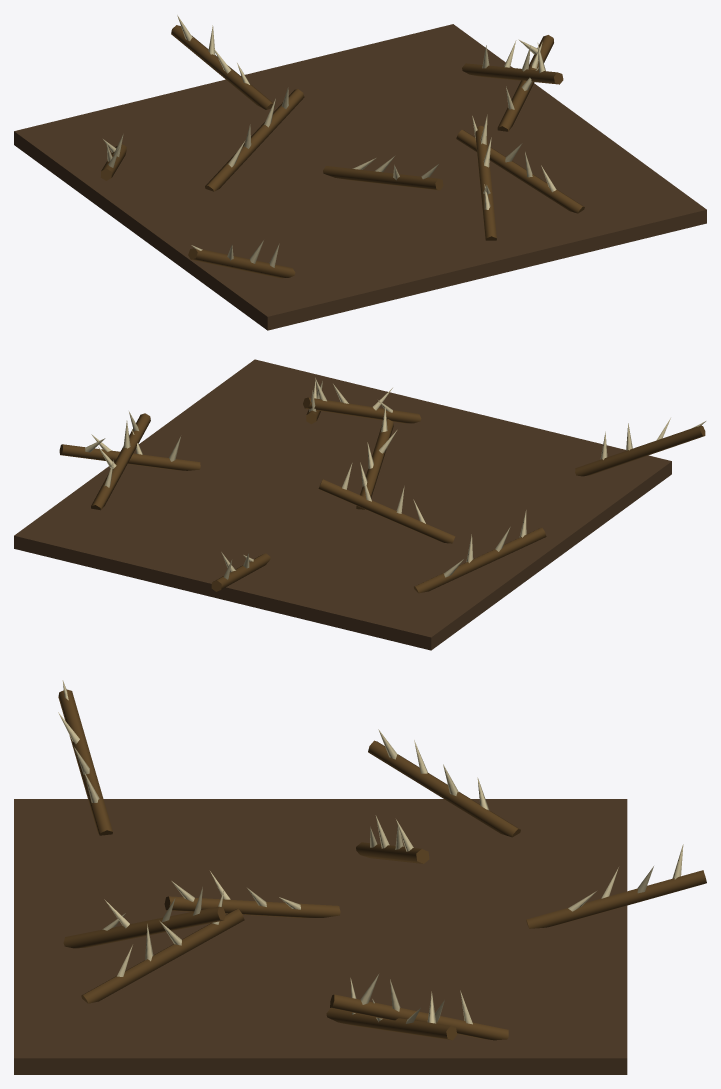
File: thorns.glb
3 views of the same model, one above another, from view 1: azimuth 30°, elevation 25°; view 2: azimuth 150°, elevation 25°; view 3: azimuth 270°, elevation 25° (orthographic). The views are drawn at different scales.
Parts seen in each view (by area): view 1: Bed, Branch3, Branch8, Branch1, Branch4, Branch6, Branch2, Branch7, Branch5; view 2: Bed, Branch3, Branch6, Branch0, Branch5, Branch7, Branch2, Branch4, Branch1; view 3: Bed, Branch1, Branch8, Branch7, Branch0, Branch2, Branch4, Branch6, Branch5, Branch3.
Part boxes in pixels (x1,y1,x2,y2): Bed: [14, 24, 706, 330]; Branch3: [205, 89, 304, 191]; Branch8: [456, 130, 584, 213]; Branch1: [171, 25, 275, 109]; Branch4: [323, 166, 443, 190]; Branch6: [188, 248, 295, 278]; Branch2: [462, 63, 563, 84]; Branch7: [475, 125, 496, 240]; Branch5: [497, 35, 553, 131]; Bed: [14, 359, 671, 650]; Branch3: [318, 479, 455, 543]; Branch6: [575, 425, 705, 476]; Branch0: [414, 527, 546, 593]; Branch5: [59, 444, 200, 470]; Branch7: [303, 397, 421, 423]; Branch2: [91, 413, 150, 510]; Branch4: [356, 419, 393, 509]; Branch1: [211, 553, 270, 591]; Bed: [14, 799, 627, 1074]; Branch1: [526, 870, 706, 928]; Branch8: [81, 908, 244, 1003]; Branch7: [63, 906, 225, 948]; Branch0: [368, 740, 520, 837]; Branch2: [330, 994, 508, 1040]; Branch4: [164, 896, 340, 917]; Branch6: [58, 689, 112, 835]; Branch5: [326, 1008, 457, 1040]; Branch3: [356, 842, 429, 863].
Bounding box in the file's own units: 4.76 × 0.7574 × 4.52.
